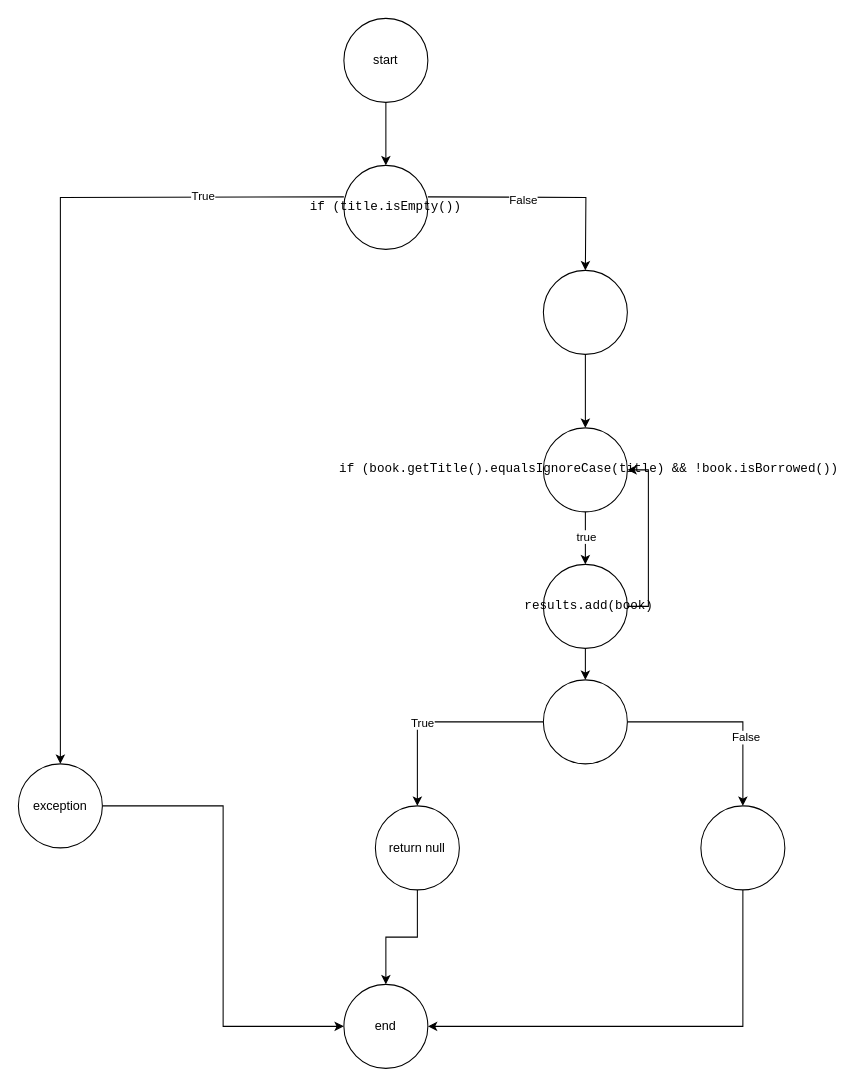
This 857x1087 diagram has some shape labels left out. Each missing label, with the box of its shape:
for (Book book : books): (542, 269, 627, 354)
if (results.isEmpty()): (542, 679, 627, 764)
return results: (700, 805, 785, 890)
